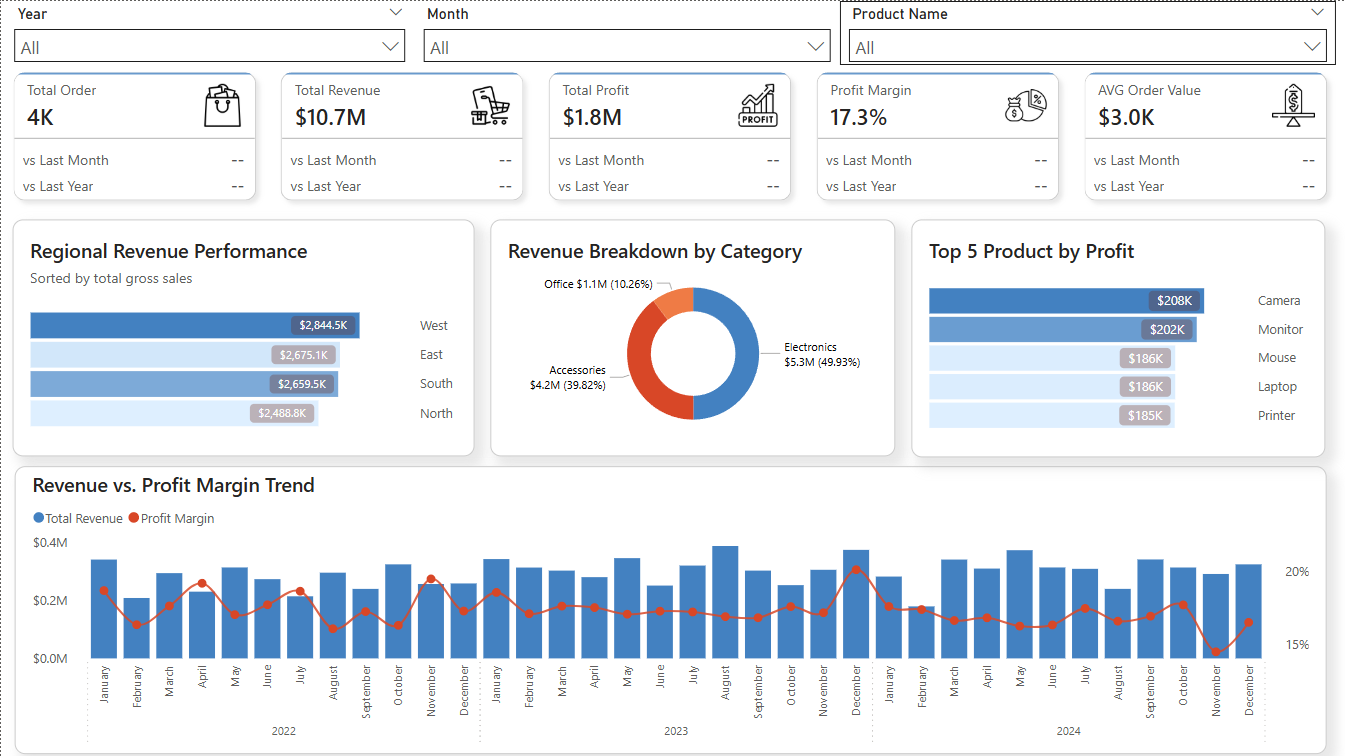

The page's visual inventory and layout, read from the dashboard file:
{"tool":"powerbi","page":{"name":"Page 1","canvas":[1280,720],"ordinal":0},"visuals":[{"type":"cardVisual","fields":{"Data":["_Measures.Total Order","_Measures.Total Revenue","_Measures.Total Profit","_Measures.Profit Margin","_Measures.AVG Order Value"]},"box":[0,56,1275,146],"z":0},{"type":"clusteredBarChart","title":"Regional Revenue Performance","fields":{"Category":["ecommerce_sales_data.Region"],"Y":["_Measures.Total Sales"]},"box":[10.8,208,440,226.2],"z":1000},{"type":"donutChart","title":"Revenue Breakdown by Category","fields":{"Category":["ecommerce_sales_data.Category"],"Y":["_Measures.Total Revenue"]},"box":[465.6,207.8,386.7,226.7],"z":2000},{"type":"slicer","fields":{"Values":["ecommerce_sales_data.Product Name"]},"box":[798.9,0,472.6,61.1],"z":4000},{"type":"slicer","fields":{"Values":["Calendar.Month Name"]},"box":[394,0,405,61],"z":5000},{"type":"slicer","title":"Year","fields":{"Values":["Calendar.Year"]},"box":[4.2,0,390,61.1],"z":6000},{"type":"lineClusteredColumnComboChart","title":"Revenue vs. Profit Margin Trend","fields":{"Y":["_Measures.Total Sales"],"Y2":["_Measures.Profit Margin"],"Category":["Calendar.Date.Variation.Date Hierarchy.Year","Calendar.Date.Variation.Date Hierarchy.Month"]},"box":[13,443,1250,274],"z":7000},{"type":"clusteredBarChart","title":"Top 5 Product by Profit","fields":{"Y":["_Measures.Total Profit"],"Category":["ecommerce_sales_data.Product Name"]},"box":[867,207.8,395,227],"z":7001}]}

Visuals, with their boxes in screenshot pixels (x1, y1, x2, y2), scaled from the page's 1280x720 canvas onto the 1345x756 screenshot:
cardVisual - _Measures.Total Order x _Measures.Total Revenue: BBox(0, 59, 1340, 212)
"Regional Revenue Performance" clusteredBarChart: BBox(11, 218, 474, 456)
"Revenue Breakdown by Category" donutChart: BBox(489, 218, 896, 456)
slicer - ecommerce_sales_data.Product Name: BBox(839, 0, 1336, 64)
slicer - Calendar.Month Name: BBox(414, 0, 840, 64)
"Year" slicer: BBox(4, 0, 414, 64)
"Revenue vs. Profit Margin Trend" lineClusteredColumnComboChart: BBox(14, 465, 1327, 753)
"Top 5 Product by Profit" clusteredBarChart: BBox(911, 218, 1326, 457)
